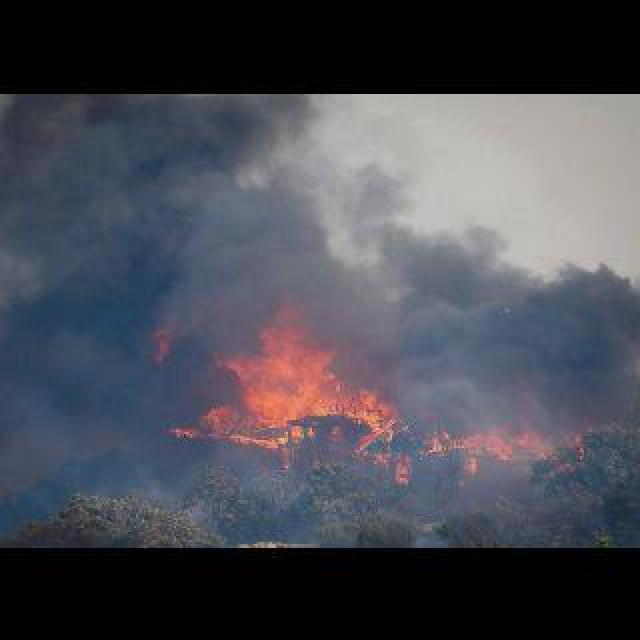Fire: (140, 290, 406, 454), (426, 414, 572, 462)
Smoke: (2, 92, 398, 320), (398, 200, 636, 424)
